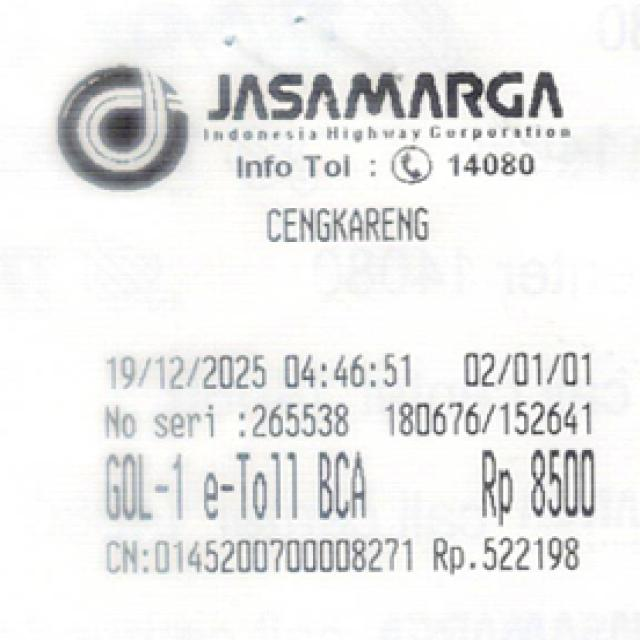date: (99, 350, 421, 392)
store: (211, 65, 581, 128)
total: (464, 445, 599, 520)
